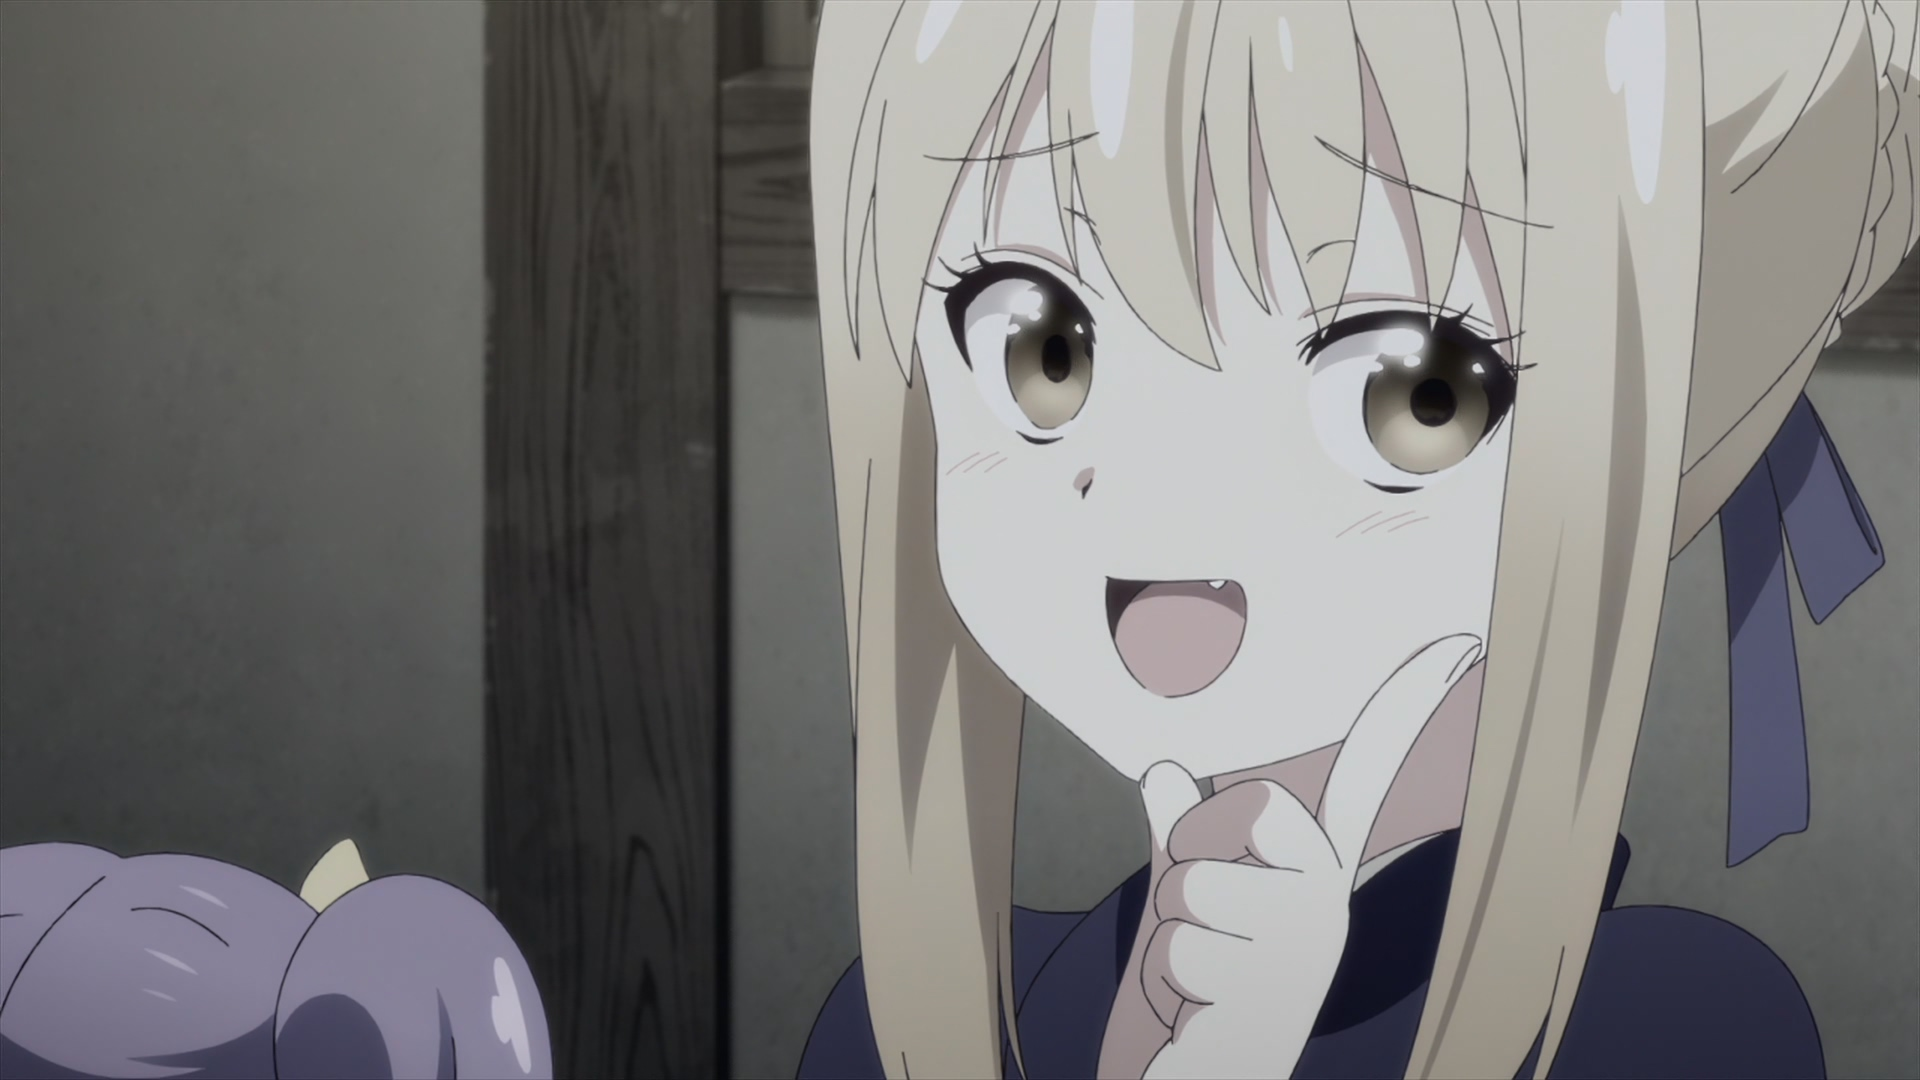桐: (794, 1, 1920, 1080)
